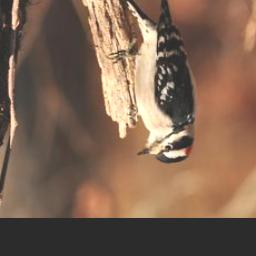Woodpecker: (106, 0, 197, 169)
